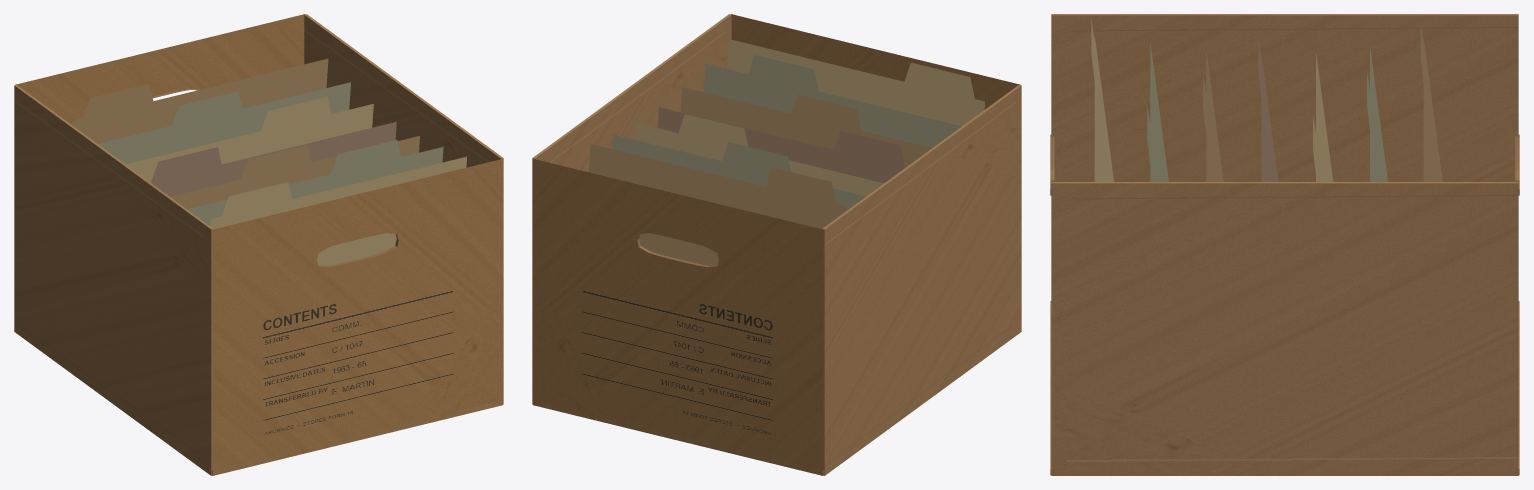
Rendered from record_case_0.gltf.
The picture shows the model from 3 angles, left to right: view 1: azimuth 30°, elevation 25°; view 2: azimuth 150°, elevation 25°; view 3: azimuth 270°, elevation 25°; orthographic projection. The views are drawn at different scales.
Parts seen in each view (by area): view 1: record_case_0; view 2: record_case_0; view 3: record_case_0.
Part boxes in pixels (x1,y1,x2,y2): record_case_0: (14, 14, 503, 475); record_case_0: (532, 14, 1021, 475); record_case_0: (1050, 14, 1519, 475).
Size of the model in its own units: 0.344 by 0.2908 by 0.403.
10 materials, 2 textured.
